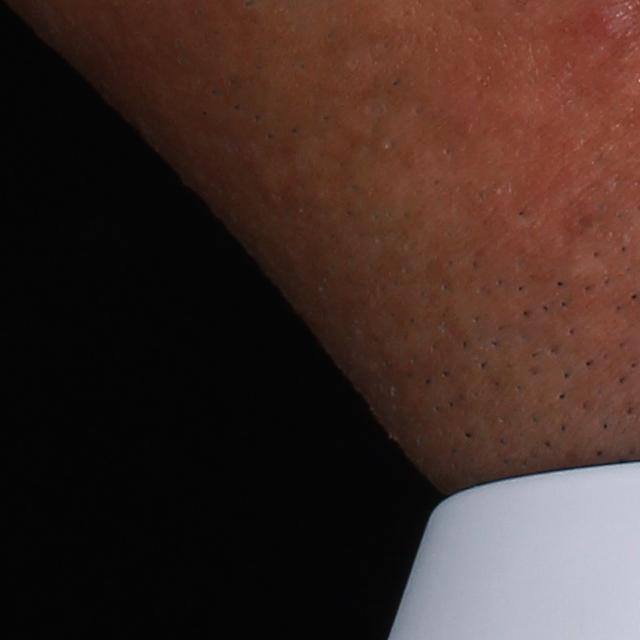papule: (580, 5, 633, 40)
